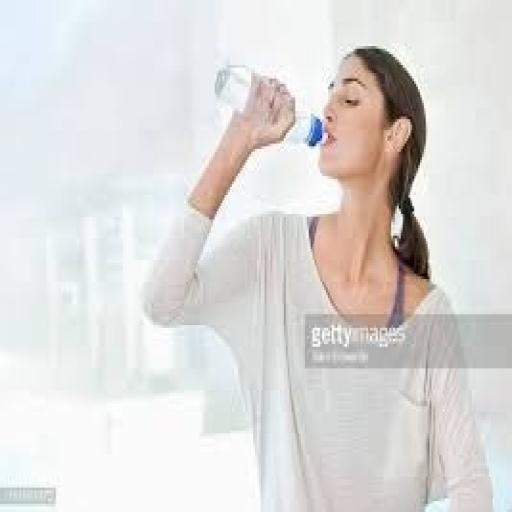drinking: (213, 62, 324, 146)
